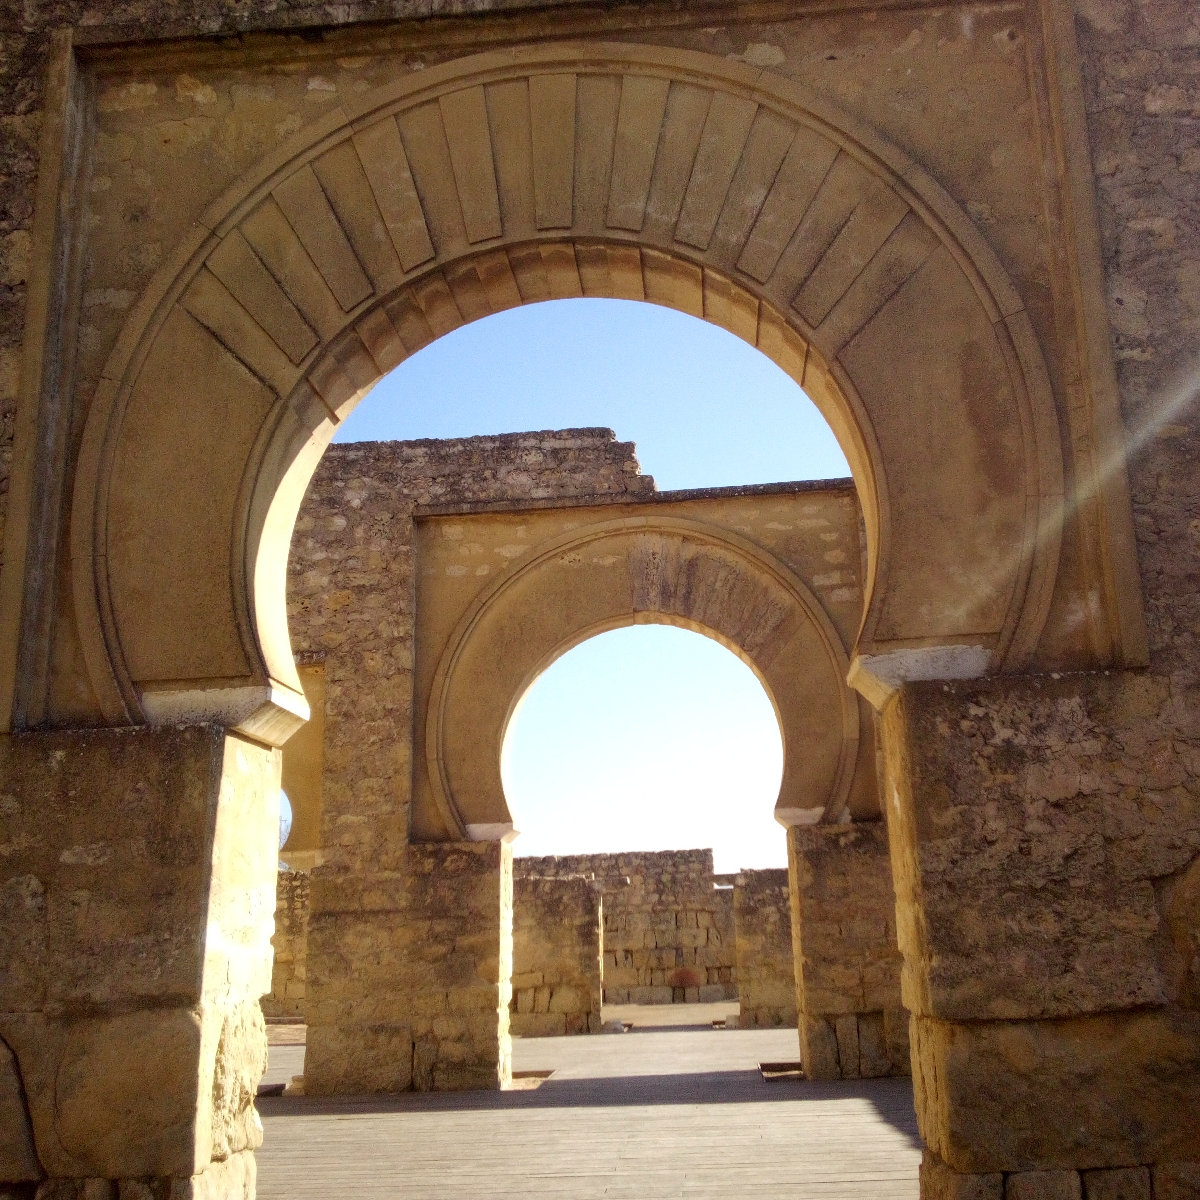arco-herradura: (170, 188, 949, 787), (460, 579, 823, 871)
